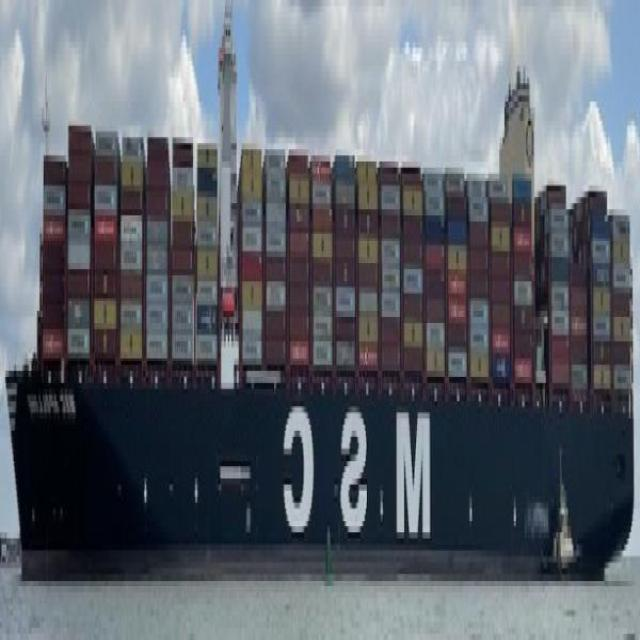Container Ship: (3, 8, 635, 579)
